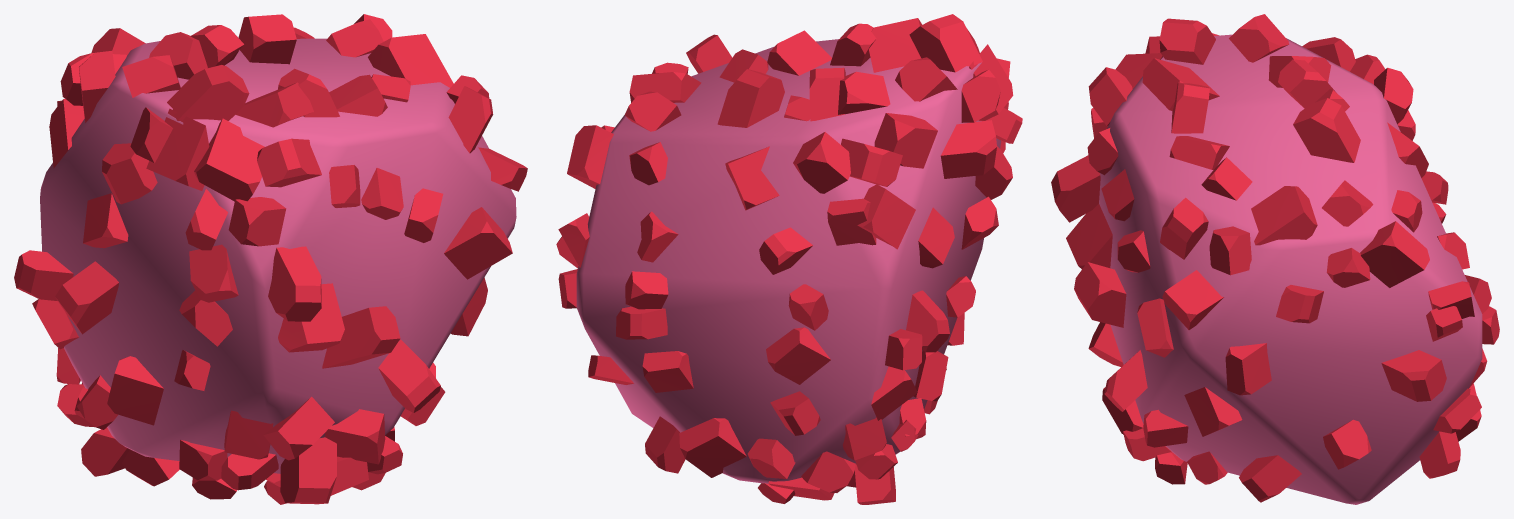
File: obj_voxelmaterialchunk_t3large.fbx
3 views of the same model, side by side, from view 1: azimuth 30°, elevation 25°; view 2: azimuth 150°, elevation 25°; view 3: azimuth 270°, elevation 25° (orthographic). The views are drawn at different scales.
Parts seen in each view (by area): view 1: clutter.003, chunk.003; view 2: chunk.003, clutter.003; view 3: chunk.003, clutter.003.
Part boxes in pixels (box(x1,y1,x2,y2)): clutter.003: box(14, 14, 527, 504); chunk.003: box(40, 38, 516, 473); chunk.003: box(576, 39, 1001, 483); clutter.003: box(556, 14, 1022, 504); chunk.003: box(1099, 34, 1482, 504); clutter.003: box(1051, 14, 1499, 502).
Size of the model in its own units: 12.42 by 13.69 by 13.27.
